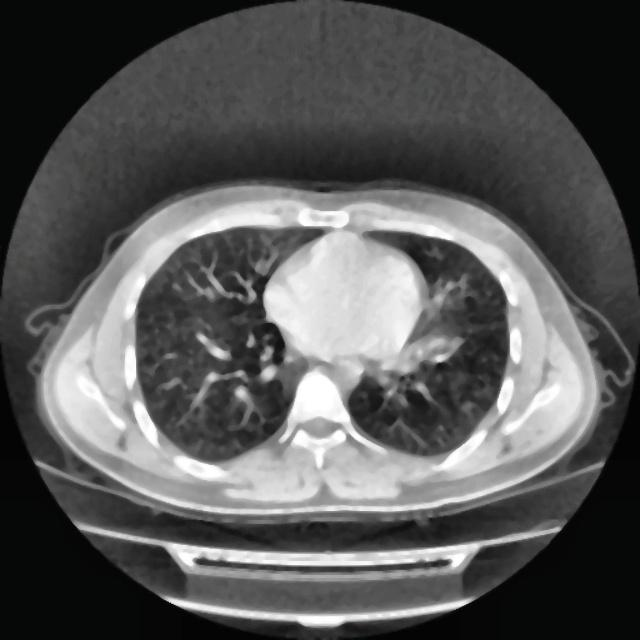covid: (33, 178, 605, 523)
